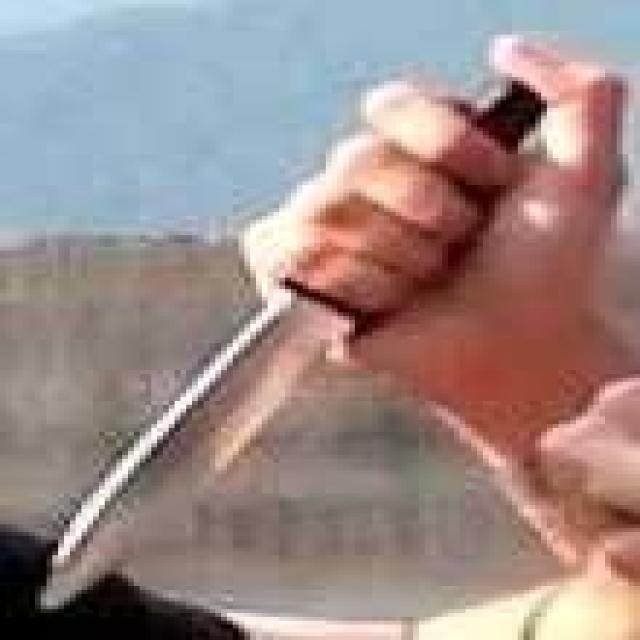weapon: (20, 57, 546, 627)
